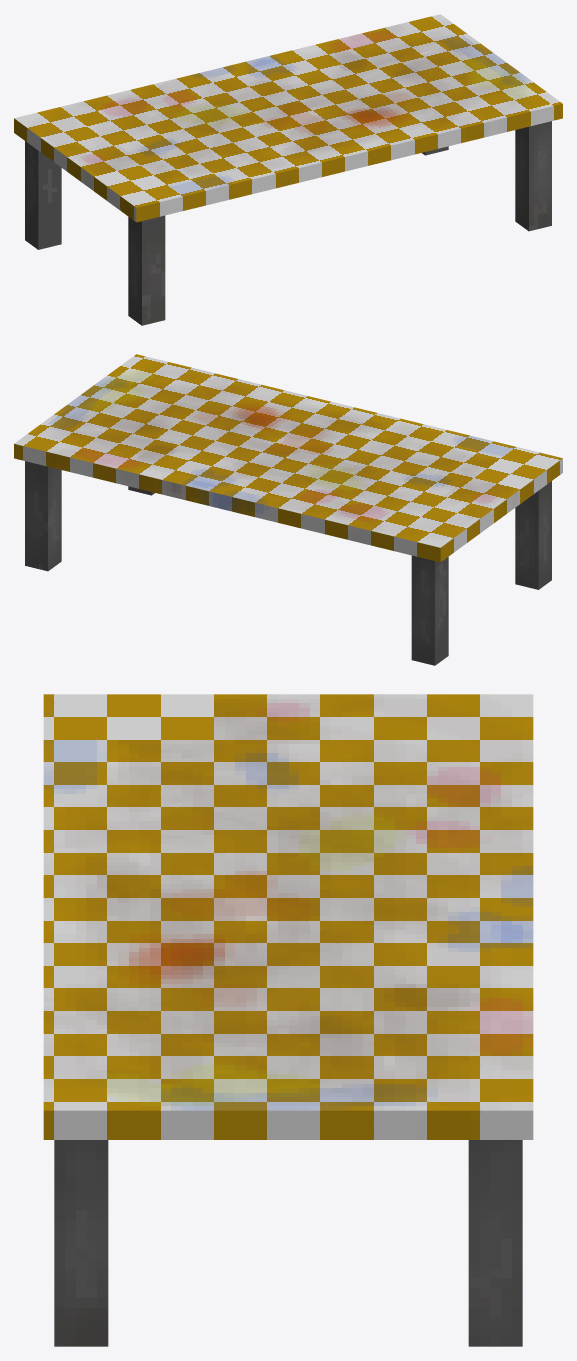
Rendered from table.gltf.
The picture shows the model from 3 angles, top to bottom: view 1: azimuth 30°, elevation 25°; view 2: azimuth 150°, elevation 25°; view 3: azimuth 270°, elevation 25°; orthographic projection. The views are drawn at different scales.
Visible parts, largest first — view 1: mesh, leg (×3); view 2: mesh, leg (×3); view 3: mesh, leg (×2).
Boxes of the visible parts, x1,y1,x2,y2 form: mesh: (14,14,562,222); leg (×3): (25,121,551,325); mesh: (14,354,562,562); leg (×3): (25,461,551,665); mesh: (43,694,533,1139); leg (×2): (54,1140,522,1346).
Bounding box in the file's own units: 5.72 × 1.56 × 2.84.
5 materials, 5 textured.
